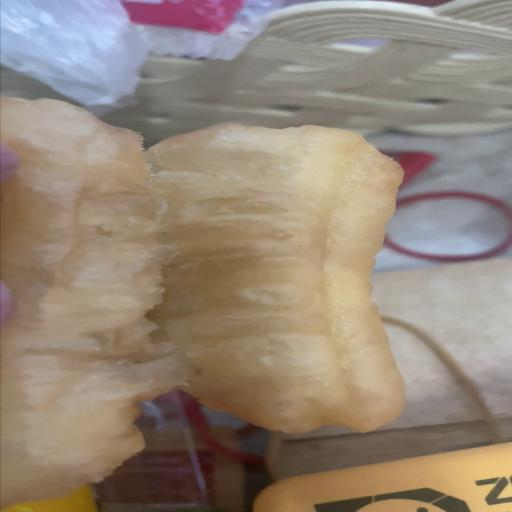street_golden_defect: (0, 118, 408, 494)
